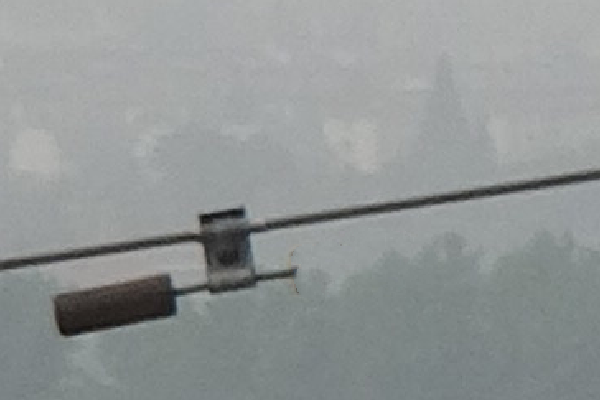damper_defect: (49, 202, 303, 343)
